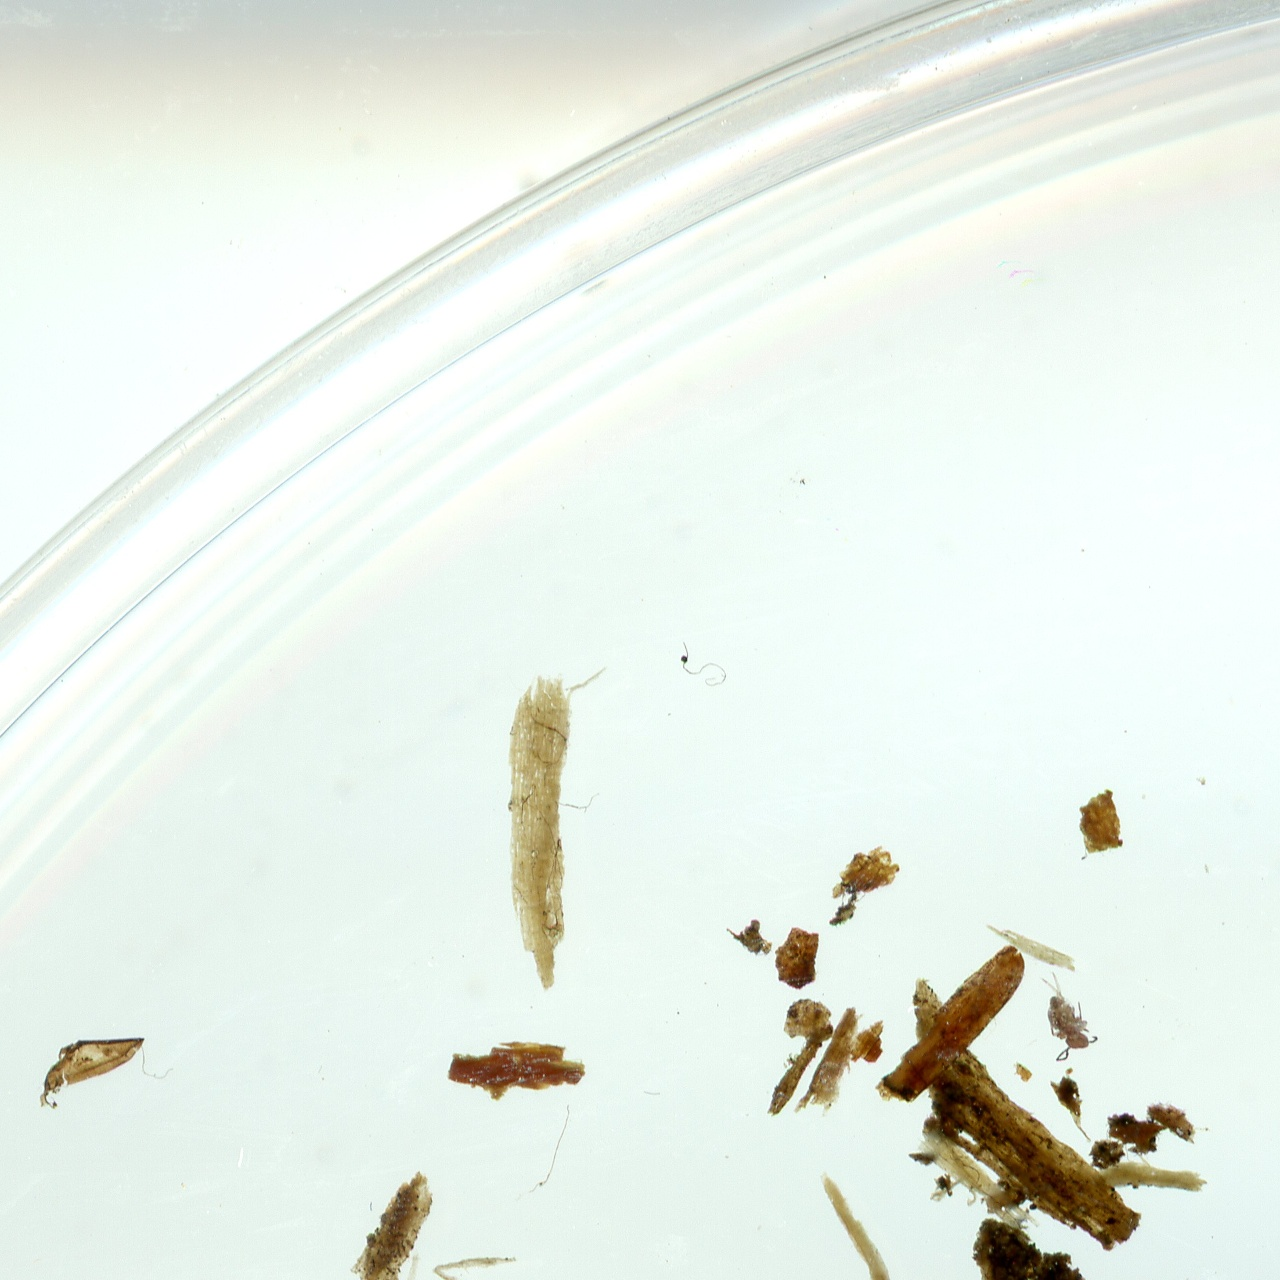arthropod: (1019, 961, 1105, 1068)
